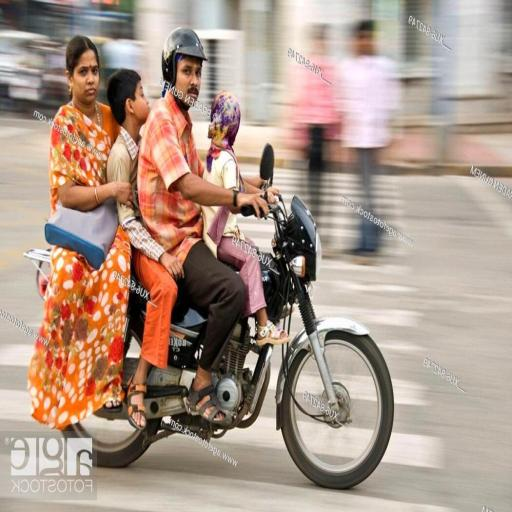helmet: (207, 90, 241, 149)
overloading: (24, 142, 395, 490), (33, 24, 286, 430)
